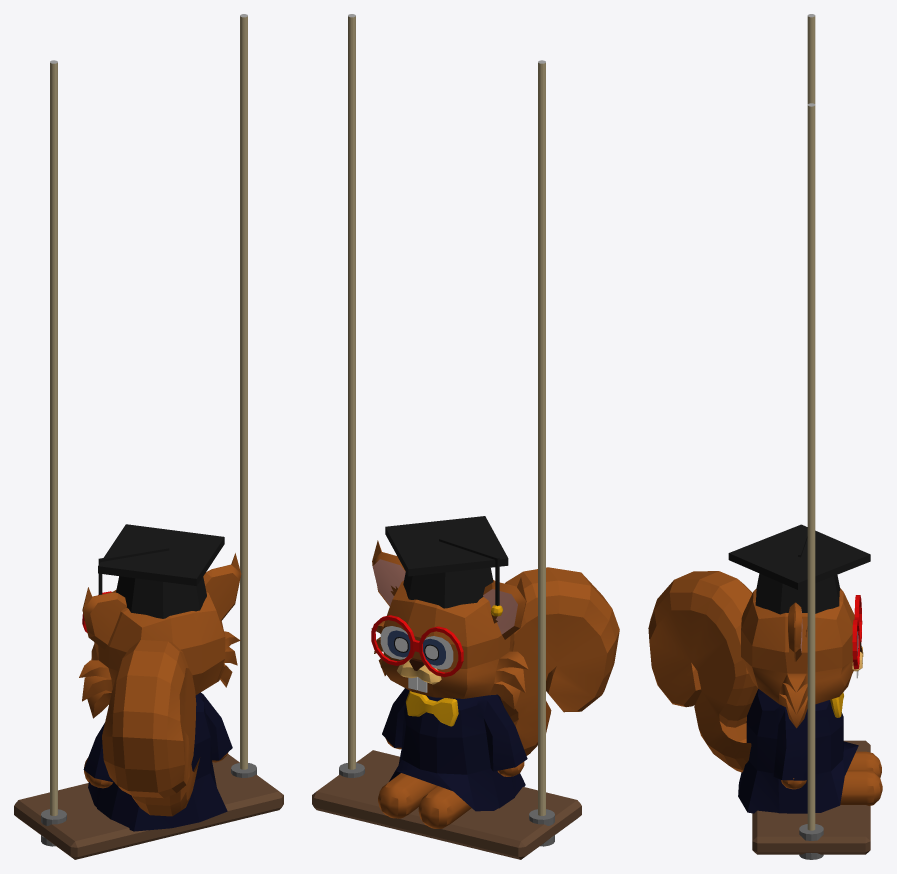
File: Swing 1.fbx
The picture shows the model from 3 angles, left to right: view 1: azimuth 30°, elevation 25°; view 2: azimuth 150°, elevation 25°; view 3: azimuth 270°, elevation 25°; orthographic projection. The views are drawn at different scales.
Parts seen in each view (by area): view 1: Swing1; view 2: Swing1; view 3: Swing1.
Part boxes in pixels (bbox=[...]): Swing1: bbox=[14, 14, 283, 859]; Swing1: bbox=[312, 14, 619, 859]; Swing1: bbox=[648, 14, 882, 859].
Size of the model in its own units: 0.7471 by 2.61 by 0.7377.
